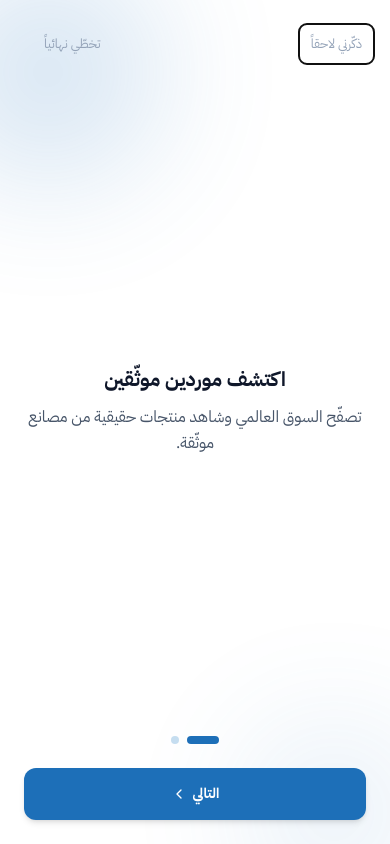
it: WelcomeCarouselMobile › advances on a reading-direction swipe (RTL: rightward drag → next)
The image size is (390, 844).
Press the mouse on the element that starts with "اكتشف موردين موثّقين": (195, 410) [28,364,362,455]
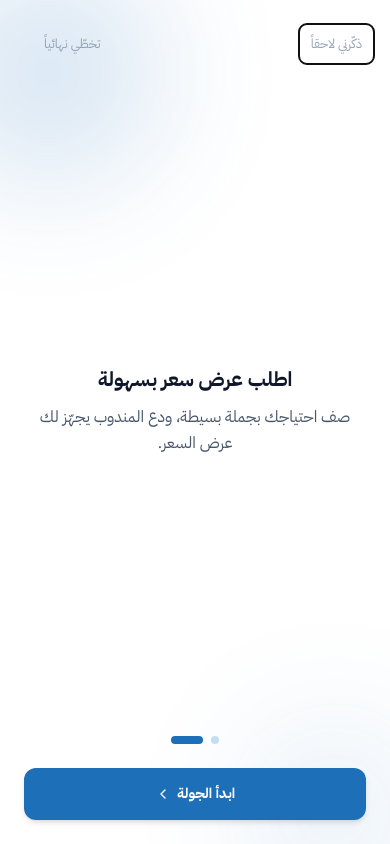
Check: the heading "اطلب عرض سعر بسهولة" is shown, box [98,367,292,392]
